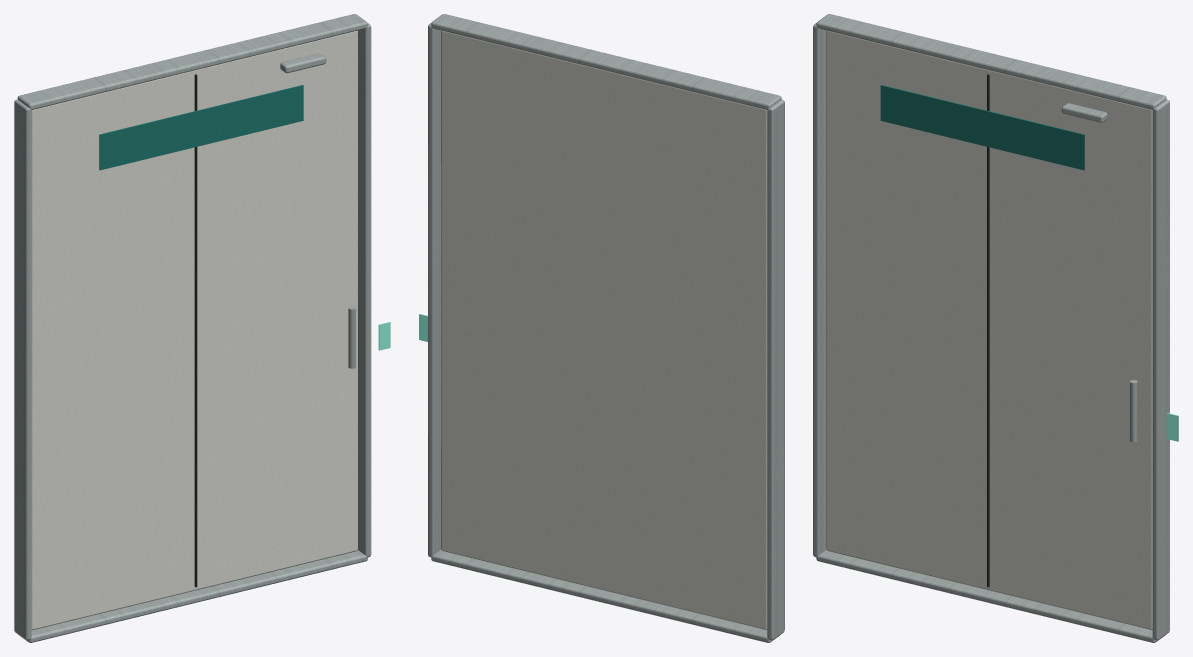
The model's file is detail-lift-door-0.glb.
3 renders of one model, left to right at view 1: azimuth 30°, elevation 25°; view 2: azimuth 150°, elevation 25°; view 3: azimuth 330°, elevation 25°, orthographic.
Visible parts, largest first — view 1: door_panel, frame_side (×2), frame_rail (×2), label_room_sign, door_seam, closer; view 2: door_panel, frame_side (×2), frame_rail (×2); view 3: door_panel, frame_side (×2), frame_rail (×2), label_room_sign, door_seam, closer.
Part boxes in pixels (x1=…): door_panel: x1=31, y1=30, x2=357, y2=630; frame_side (×2): x1=14, y1=23, x2=371, y2=640; frame_rail (×2): x1=17, y1=14, x2=367, y2=642; label_room_sign: x1=99, y1=85, x2=303, y2=170; door_seam: x1=194, y1=74, x2=197, y2=587; closer: x1=280, y1=53, x2=326, y2=73; door_panel: x1=441, y1=30, x2=767, y2=630; frame_side (×2): x1=428, y1=22, x2=784, y2=640; frame_rail (×2): x1=431, y1=14, x2=781, y2=642; door_panel: x1=826, y1=30, x2=1152, y2=630; frame_side (×2): x1=813, y1=23, x2=1169, y2=640; frame_rail (×2): x1=816, y1=14, x2=1166, y2=642; label_room_sign: x1=880, y1=85, x2=1084, y2=170; door_seam: x1=987, y1=74, x2=989, y2=587; closer: x1=1061, y1=103, x2=1107, y2=122.
Size of the model in its own units: 1.94 by 2.74 by 0.17.
Materials: 5 (4 with a texture image).
